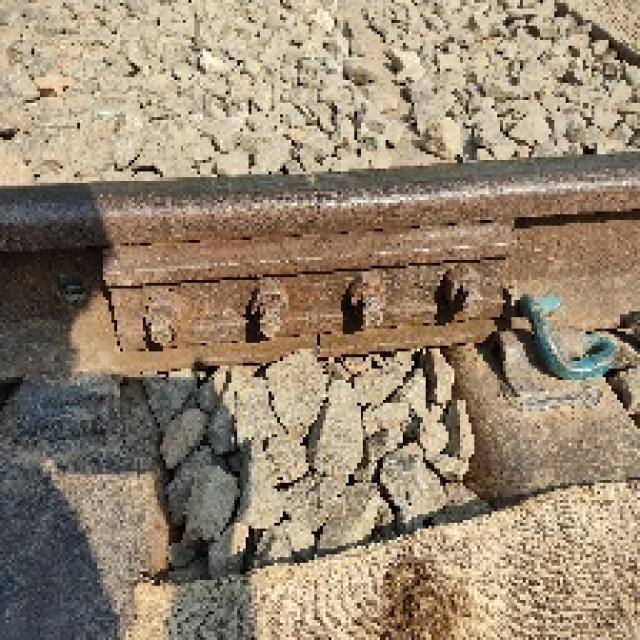Good Fasteners: (500, 294, 637, 400)
Good Joint: (106, 220, 509, 354)
